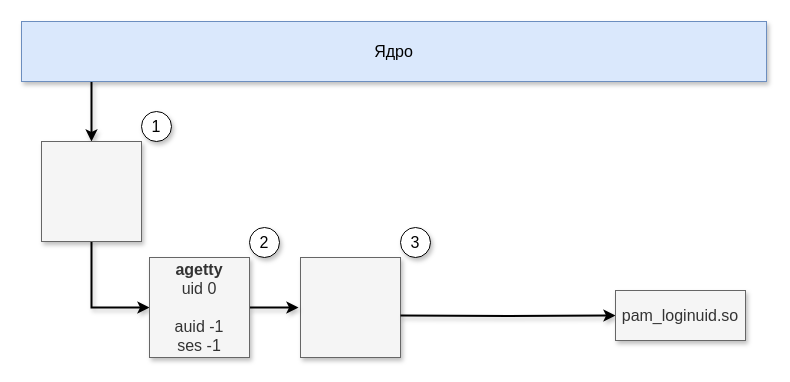
Some shapes in this 790 by 382 pixel diagram are drawn without their labels. The shapes that lost their labels are listed below. From the top down, each one's centre as x and y in pixels, then its label:
the point at 92,192: init/systemd uid 0 auid -1 ses -1
the point at 351,308: login uid 0 auid -1 ses -1
